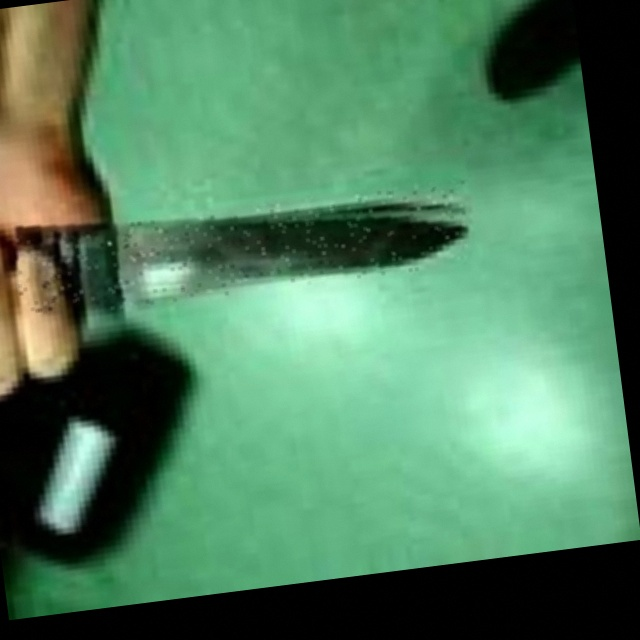Sharp-Object: (13, 180, 475, 320)
